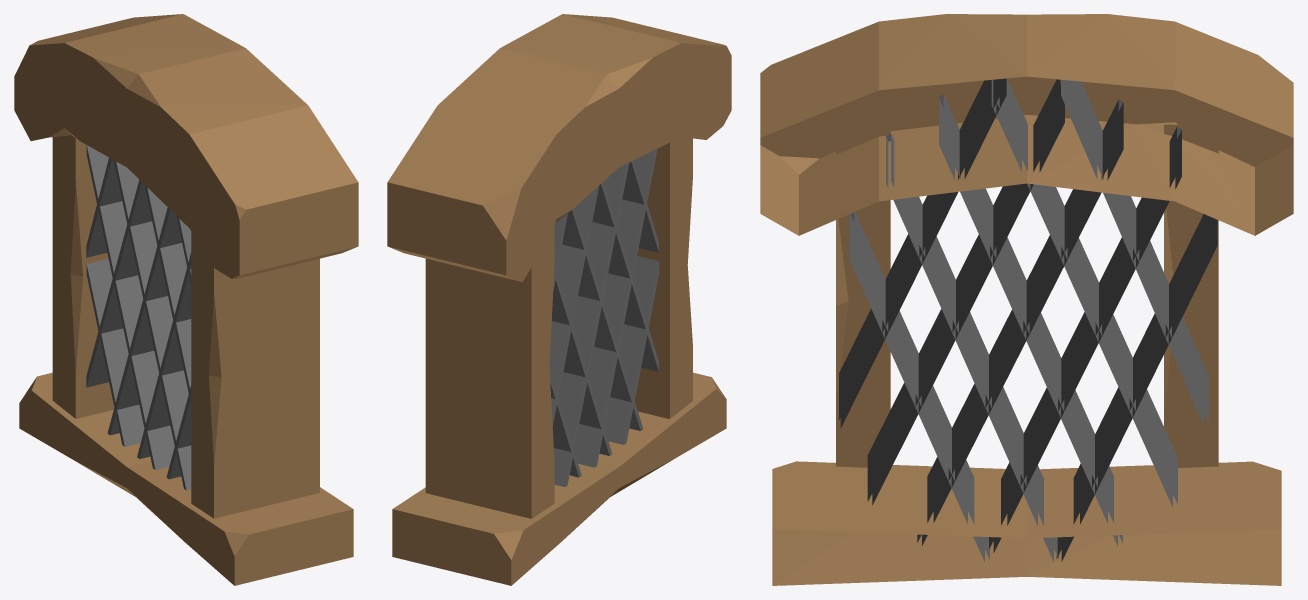
The model's file is SFV_Window_Empty_002.fbx.
3 renders of one model, left to right at view 1: azimuth 30°, elevation 25°; view 2: azimuth 150°, elevation 25°; view 3: azimuth 270°, elevation 25°, orthographic. The views are drawn at different scales.
Parts seen in each view (by area): view 1: SFV_Window_Empty_002; view 2: SFV_Window_Empty_002; view 3: SFV_Window_Empty_002.
Boxes of the visible parts, x1=… form: SFV_Window_Empty_002: x1=14, y1=14, x2=358, y2=585; SFV_Window_Empty_002: x1=387, y1=14, x2=731, y2=585; SFV_Window_Empty_002: x1=760, y1=14, x2=1293, y2=585.
Size of the model in its own units: 34.03 by 118 by 112.
